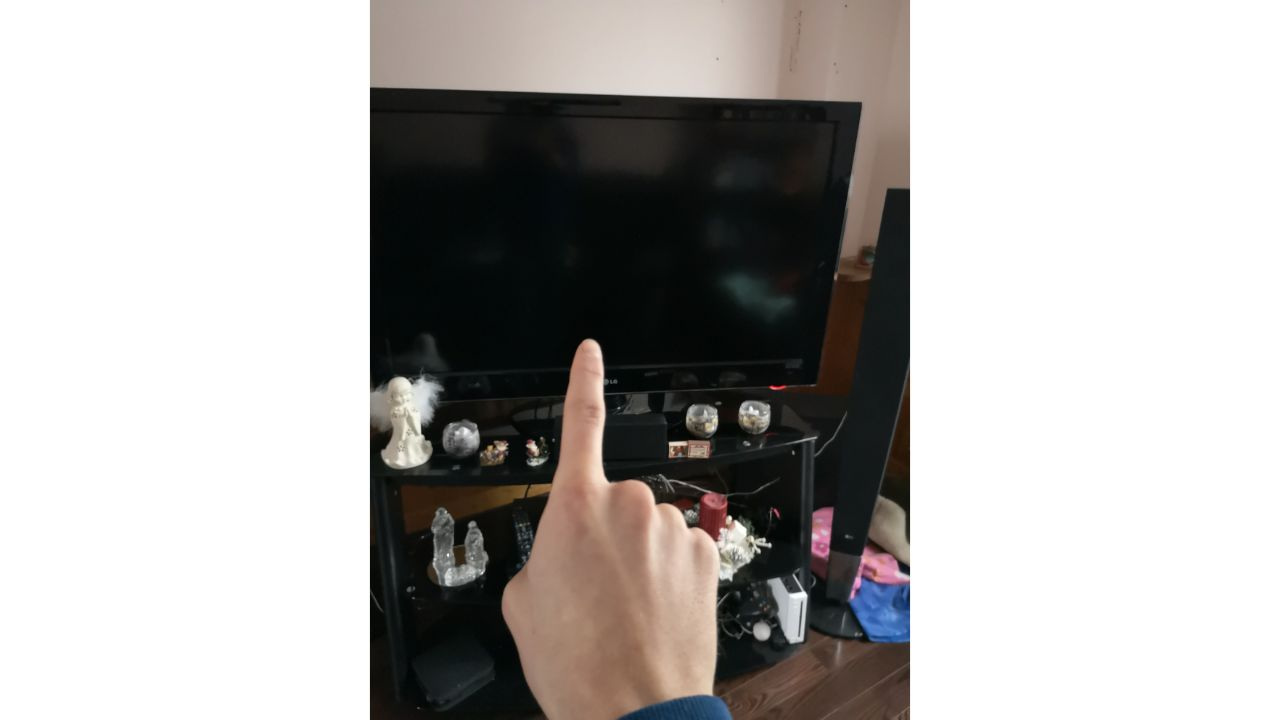finger: (508, 333, 731, 710)
tv: (370, 92, 825, 391)
